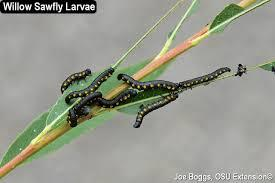insect: (63, 63, 117, 106), (131, 92, 179, 132), (63, 91, 102, 130), (178, 64, 233, 91), (116, 72, 179, 94), (91, 88, 137, 110), (59, 66, 91, 95)
